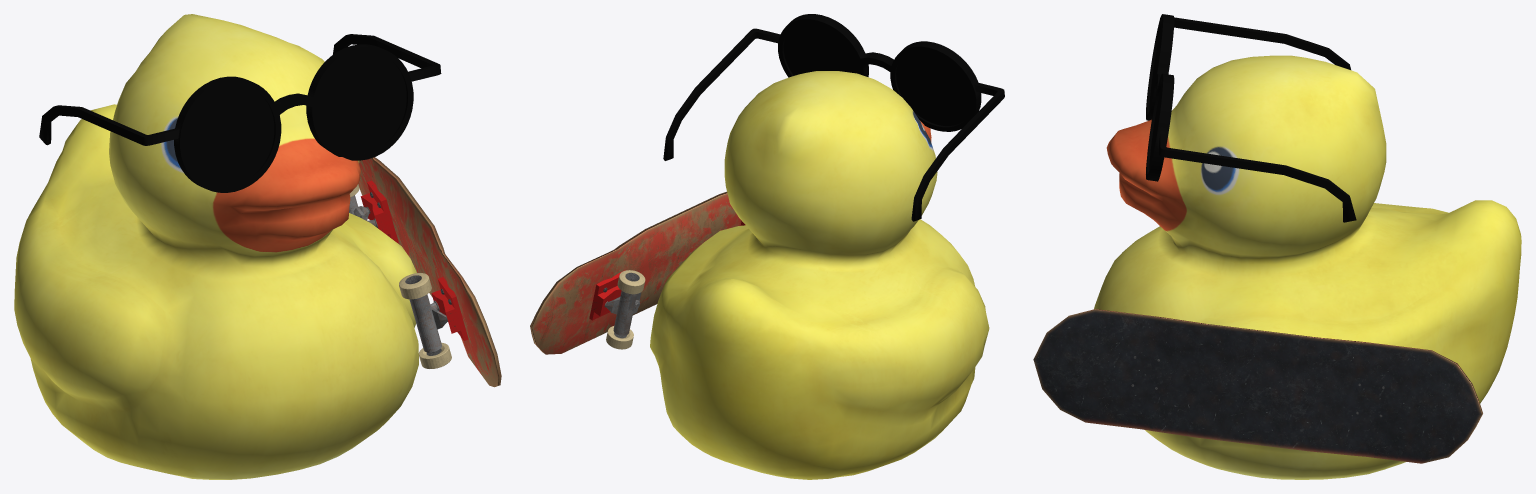
File: SkaterBoy_Ducky.fbx
The picture shows the model from 3 angles, left to right: view 1: azimuth 30°, elevation 25°; view 2: azimuth 150°, elevation 25°; view 3: azimuth 270°, elevation 25°; orthographic projection. The views are drawn at different scales.
Parts seen in each view (by area): view 1: Ducky_skaterboyyy, sunglasses, Board, B_part2.001, B_part1, F_Part1.006, B_part2, B_part2.002; view 2: Ducky_skaterboyyy, sunglasses, Board, F_Part1.006, F_Part2.001, F_Part2.002; view 3: Ducky_skaterboyyy, Board, sunglasses.
Part boxes in pixels (x1,y1,x2,y2): Ducky_skaterboyyy: (14,14,418,479); sunglasses: (39,34,441,192); Board: (358,157,501,387); B_part2.001: (409,294,441,352); B_part1: (431,277,468,340); F_Part1.006: (360,180,398,242); B_part2: (399,273,431,299); B_part2.002: (418,342,451,368); Ducky_skaterboyyy: (650,71,989,479); sunglasses: (663,14,1004,221); Board: (530,191,741,354); F_Part1.006: (589,270,625,320); F_Part2.001: (613,291,636,335); F_Part2.002: (617,270,645,294); Ducky_skaterboyyy: (1094,55,1521,479); Board: (1033,309,1482,463); sunglasses: (1146,14,1356,222).
Size of the model in its own units: 75.2 by 71.68 by 82.97.
3 materials, 2 textured.
